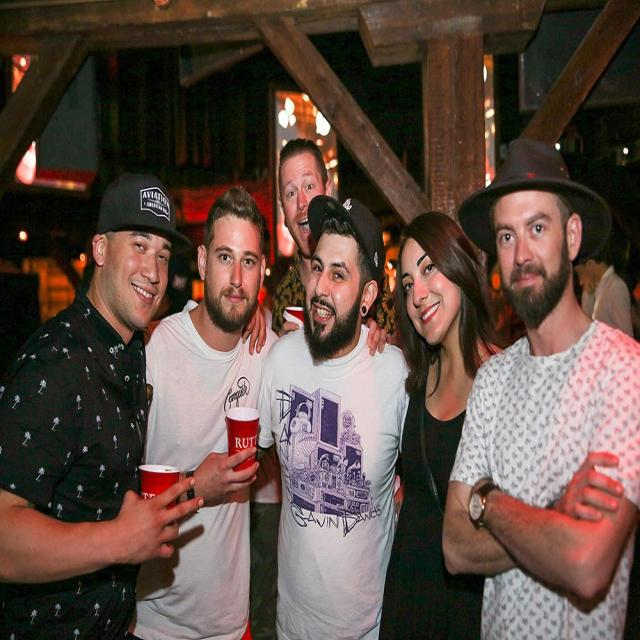body: (0, 164, 269, 639), (440, 133, 639, 639), (125, 181, 283, 640), (254, 191, 412, 640), (364, 210, 504, 640), (270, 138, 397, 358), (572, 232, 636, 341), (582, 234, 631, 320)
